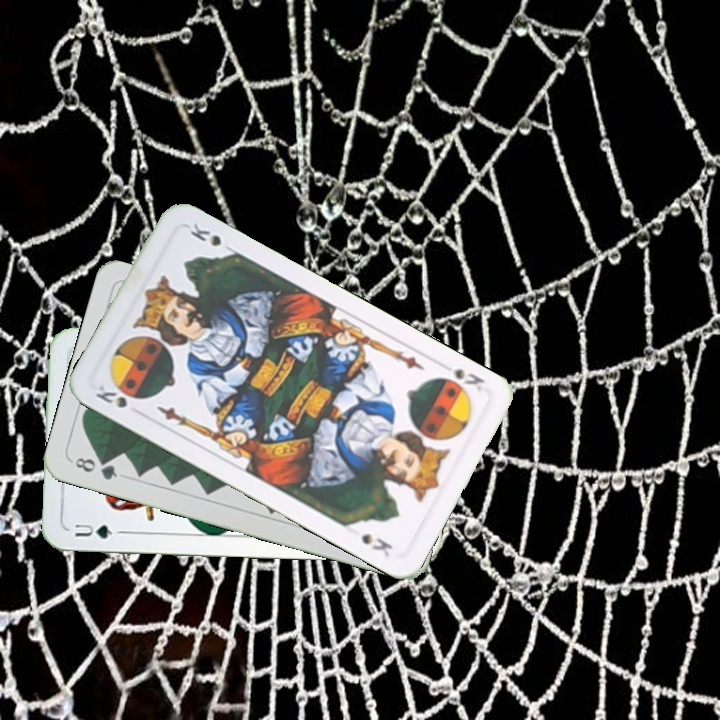G8: (71, 453, 120, 483)
GU: (70, 519, 115, 541)
SK: (91, 380, 130, 411), (450, 364, 488, 395)
